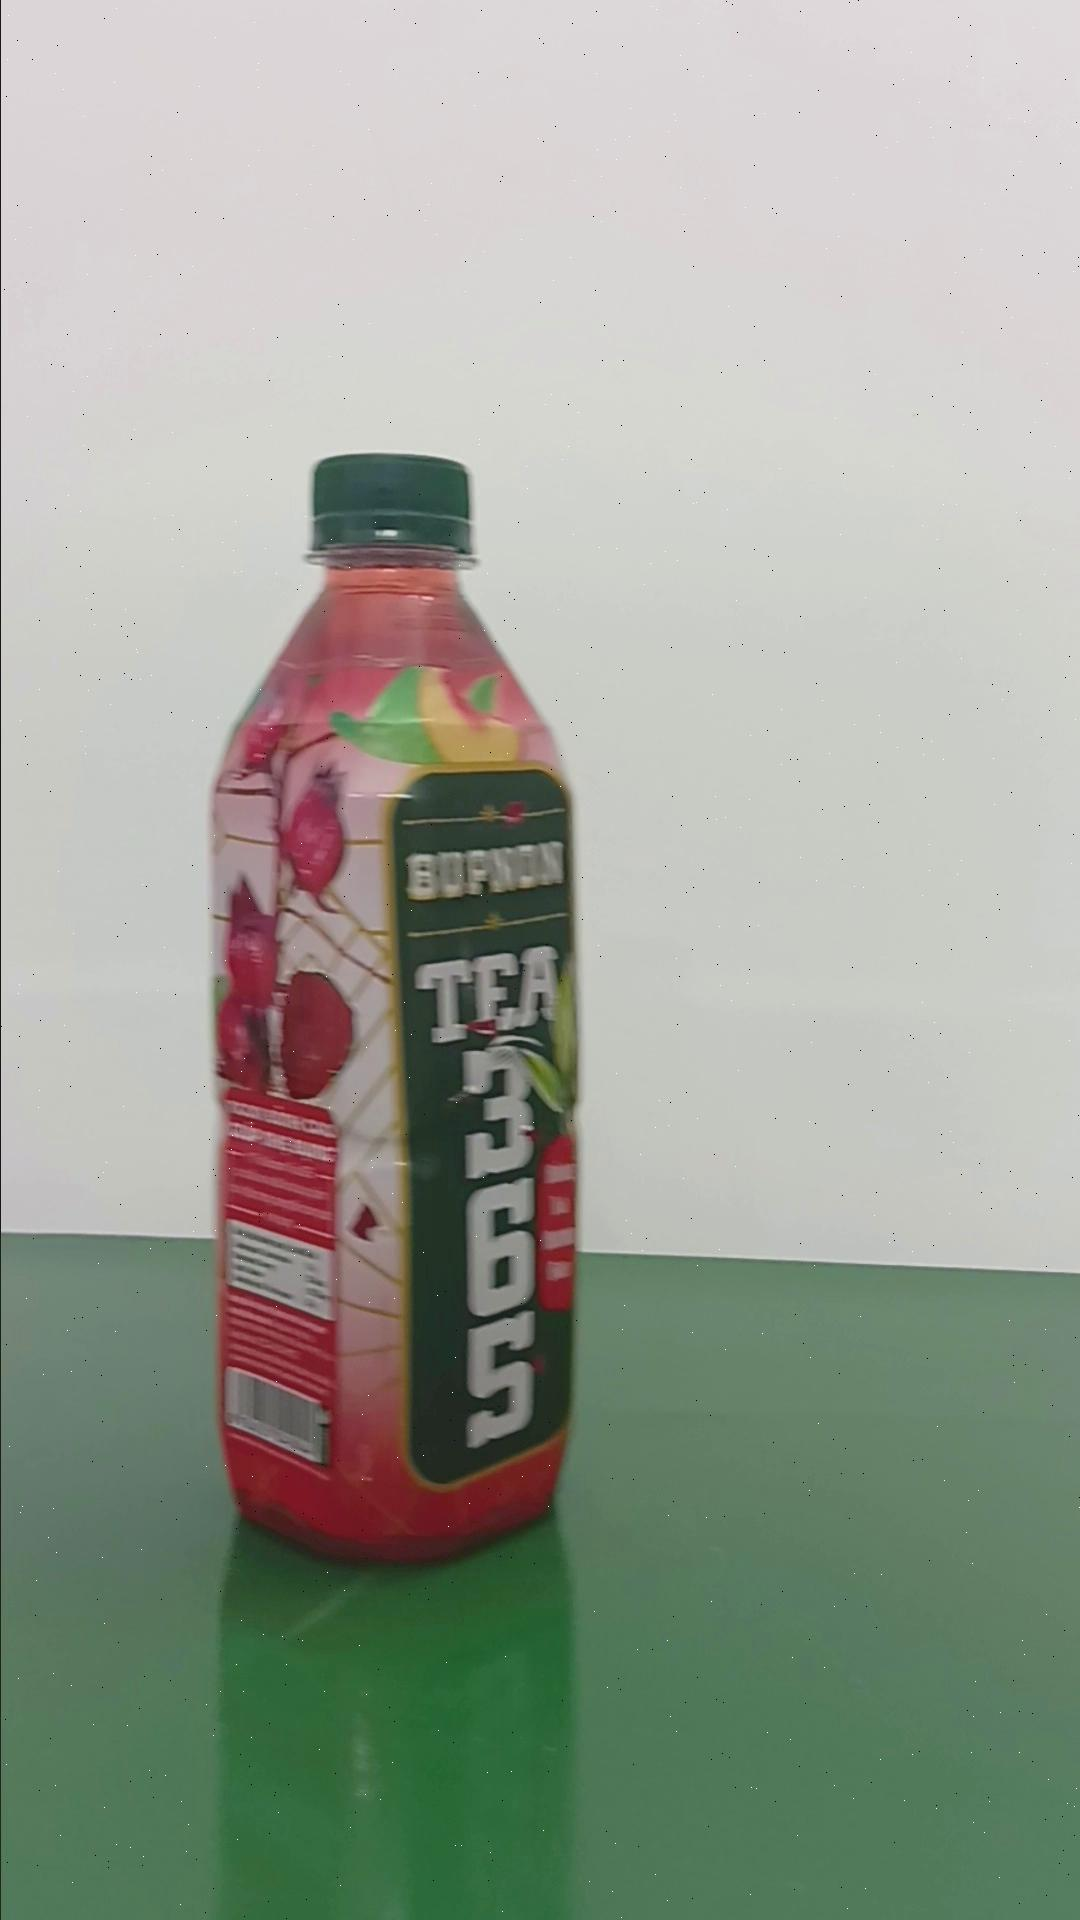loi rach va lap chai: (212, 439, 580, 1575)
